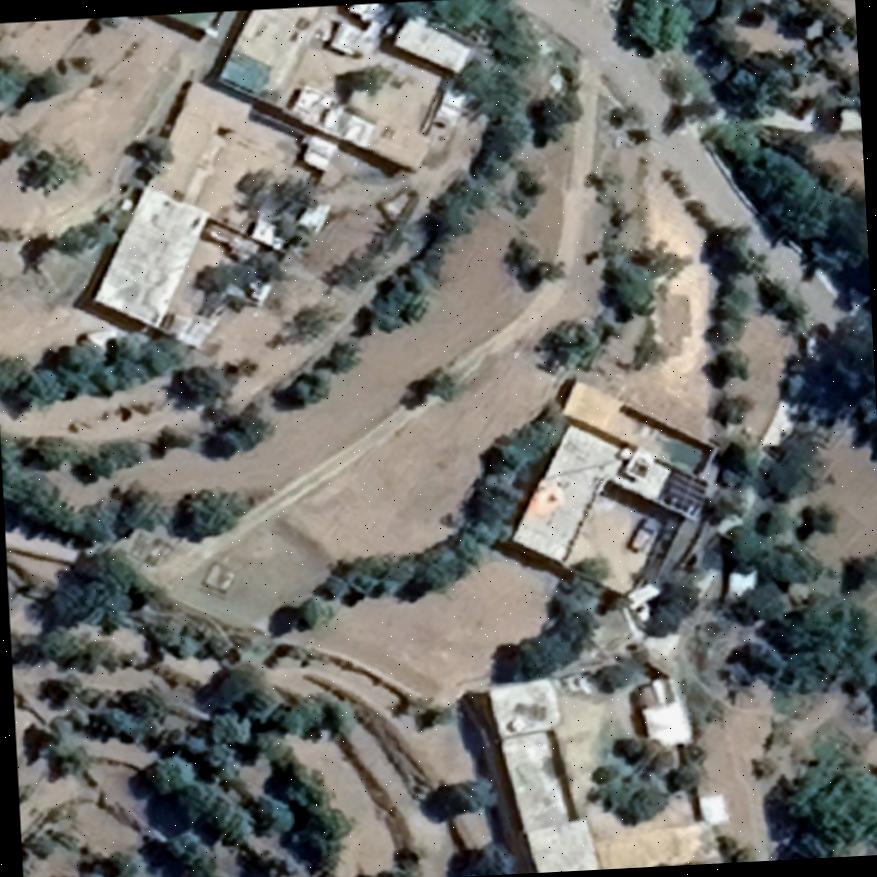Solarpanel: (651, 467, 715, 521)
